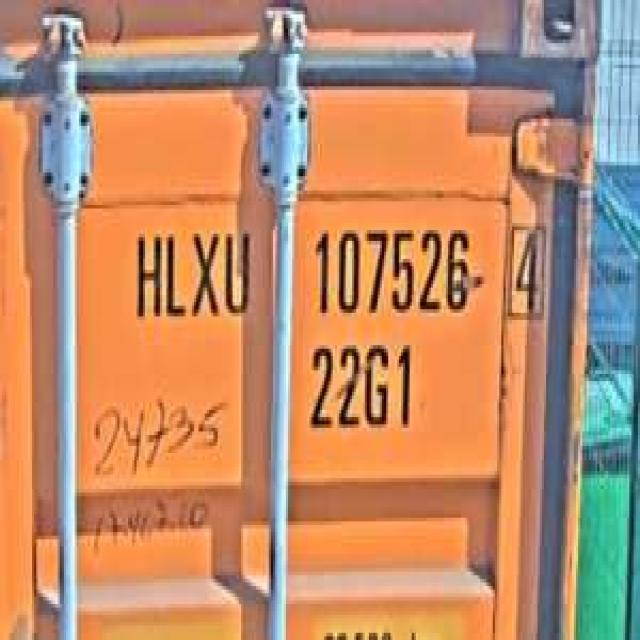dv: (503, 215, 550, 327)
owner: (128, 219, 254, 331)
serial: (307, 216, 474, 327)
size: (303, 334, 418, 442)
